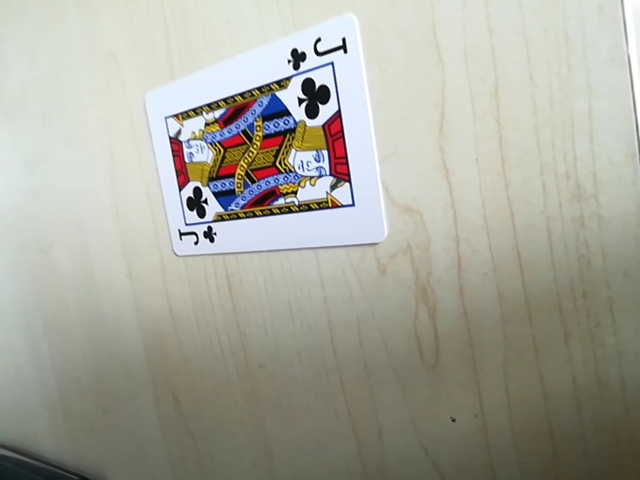mh j: (286, 32, 350, 71), (169, 213, 217, 254)
